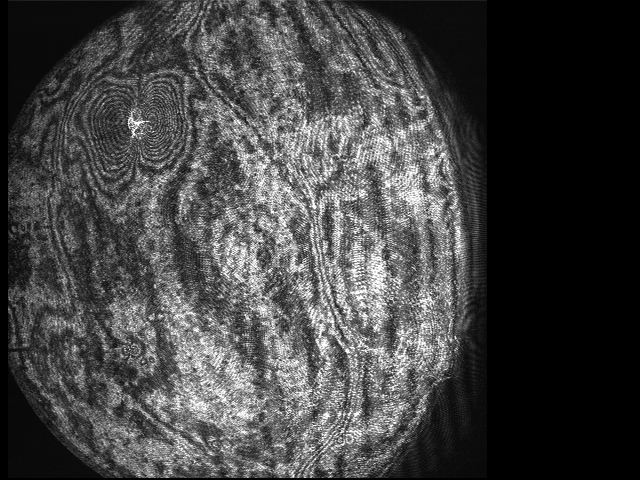plume: (89, 75, 189, 175)
